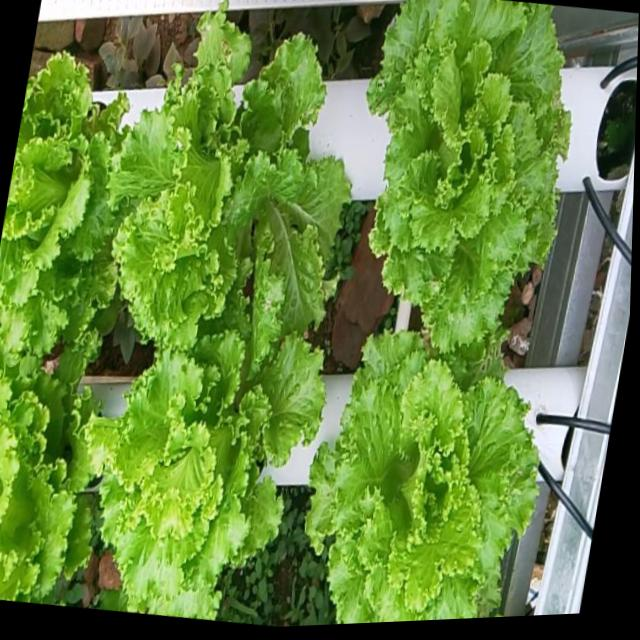Mature: (107, 2, 348, 331), (92, 298, 320, 618), (363, 0, 566, 351), (300, 323, 532, 624), (0, 40, 123, 344), (0, 348, 86, 603)
